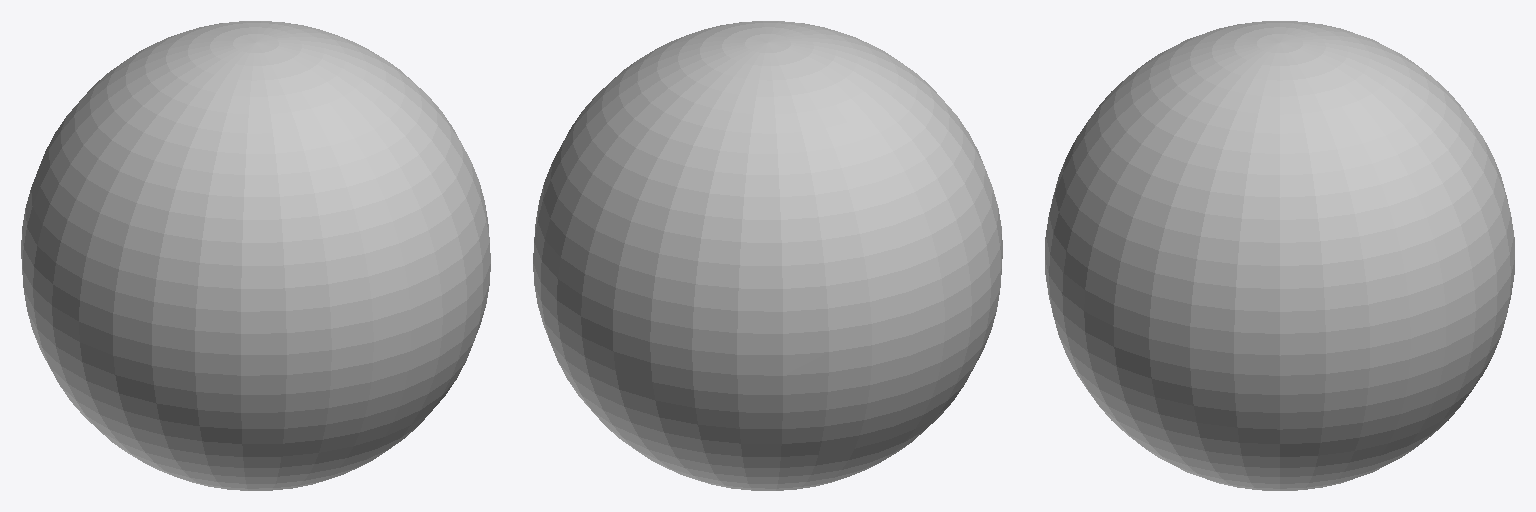
Rendered from pointlight.obj.
3 views of the same model, side by side, from view 1: azimuth 30°, elevation 25°; view 2: azimuth 150°, elevation 25°; view 3: azimuth 270°, elevation 25° (orthographic).
Visible parts, largest first — view 1: Sphere; view 2: Sphere; view 3: Sphere.
Boxes of the visible parts, x1=… form: Sphere: x1=21, y1=21, x2=490, y2=490; Sphere: x1=533, y1=21, x2=1002, y2=490; Sphere: x1=1045, y1=21, x2=1514, y2=490.
Size of the model in its own units: 0.2 by 0.2 by 0.2.